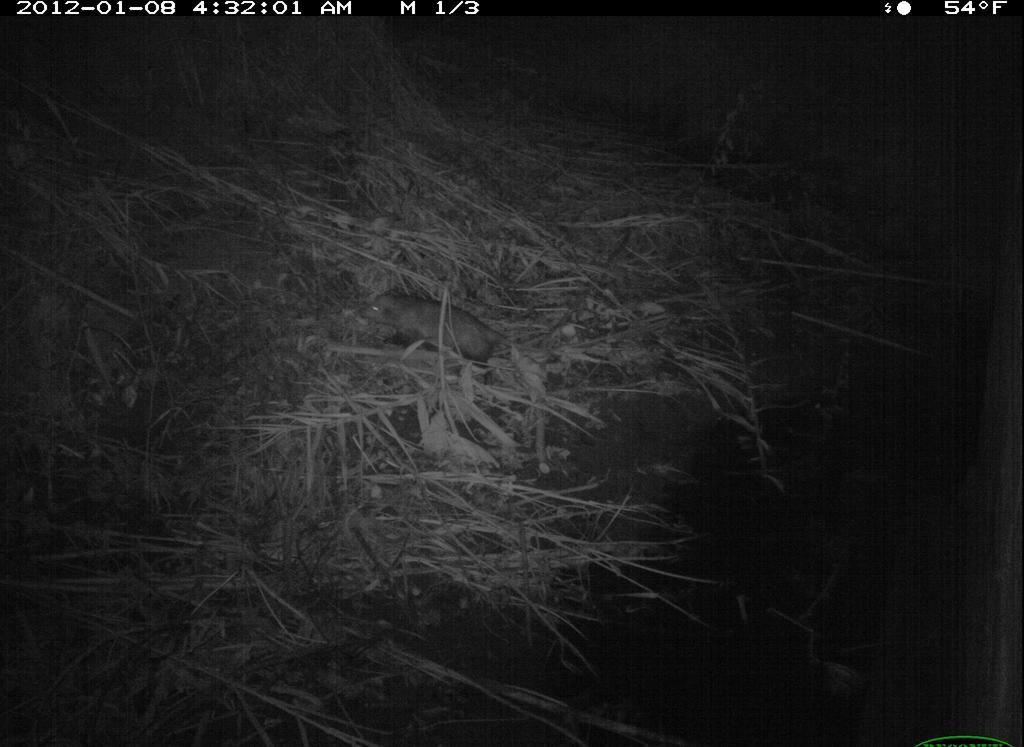opossum: (346, 269, 542, 377)
